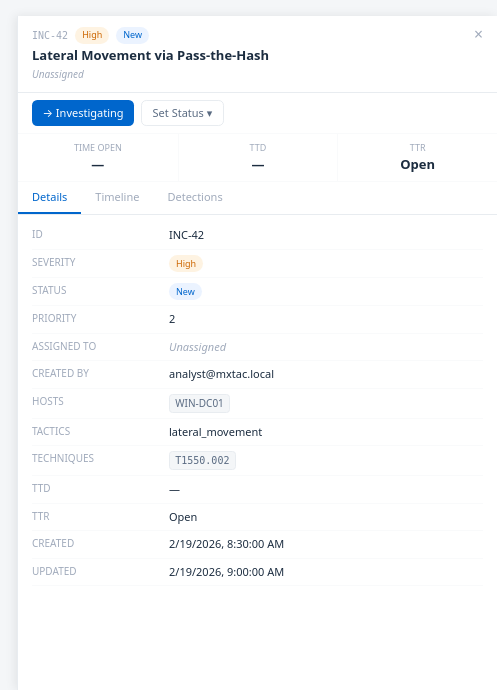
it: IncidentPanel › Set Status dropdown › hides the confirmation bar when Cancel is clicked
The image size is (497, 690).
Click the button "Set Status ▾": coordinates (182, 113) [141,100,224,126]
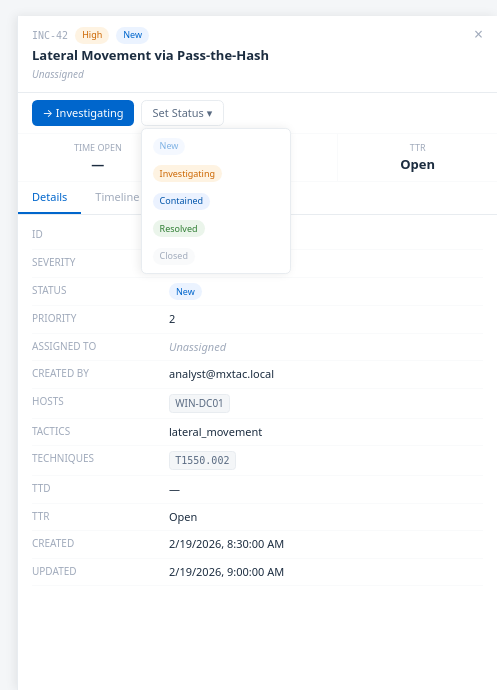
Click the button "Contained": coordinates (216, 201) [142,187,290,215]
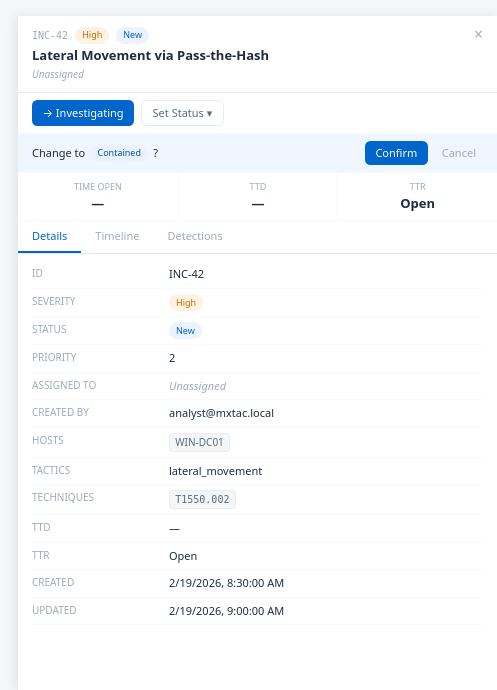
Check: the element with test id "status-confirm-bar" is shown, box [18,134,496,173]
Click the button "Cancel": coordinates (459, 153) [435,141,483,165]
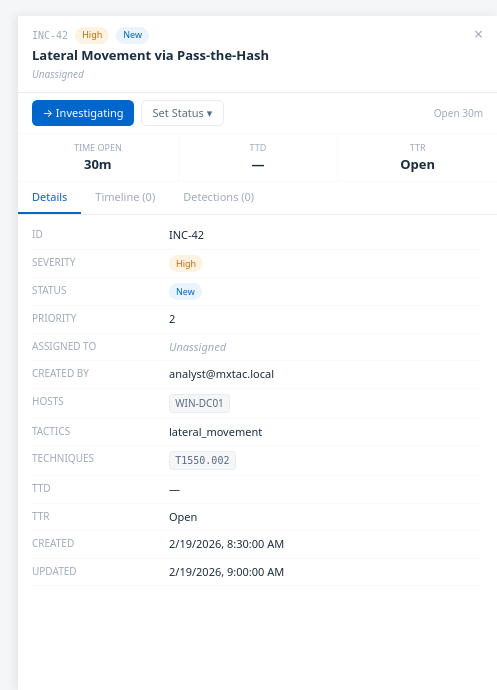
Check: the element with test id "status-confirm-bar" is gone
